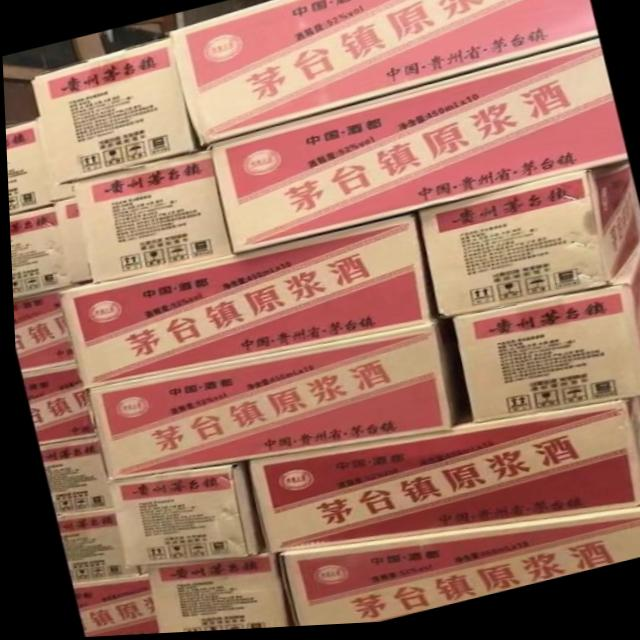box: (209, 44, 628, 257), (168, 0, 599, 150), (58, 218, 430, 390), (244, 403, 640, 557), (84, 324, 457, 482), (273, 512, 640, 629), (417, 167, 640, 324), (449, 251, 640, 429), (30, 37, 195, 185), (71, 151, 229, 285), (103, 464, 258, 569), (143, 554, 286, 635), (51, 510, 143, 583), (19, 365, 93, 445), (36, 438, 108, 516), (10, 285, 72, 373), (66, 576, 153, 638), (8, 207, 67, 297), (4, 119, 50, 215)
